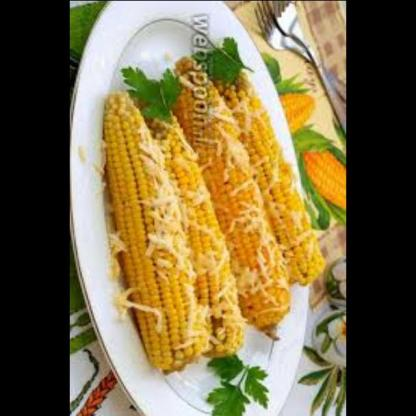corn: (162, 54, 288, 343), (104, 81, 203, 373), (142, 95, 244, 358), (214, 64, 328, 285)
